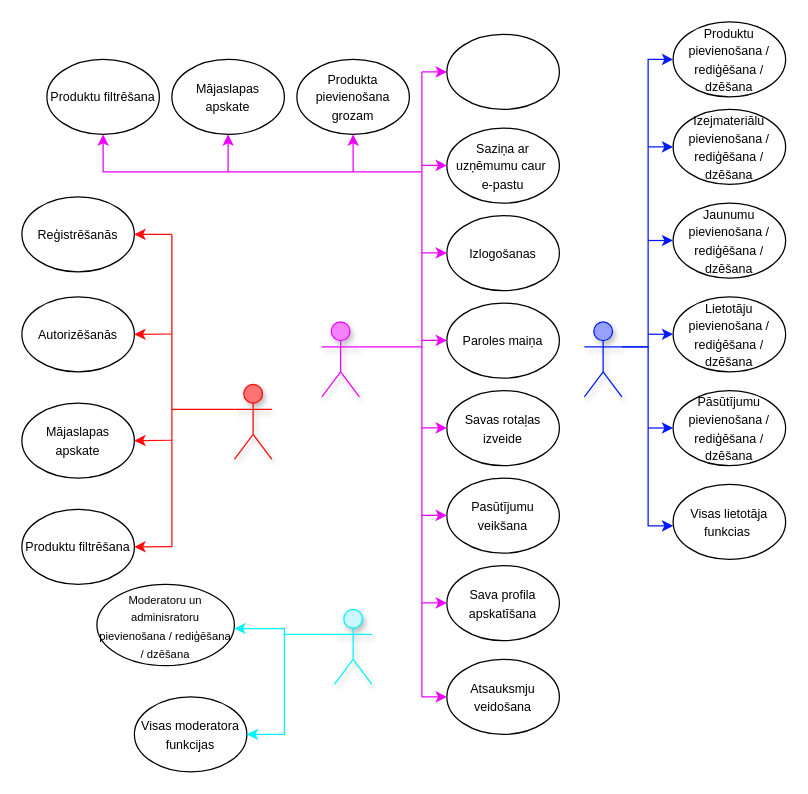
Some shapes in this 808 by 794 pixel diagram are drawn without their labels. Here are the shapes that lost their labels. From the top down, the centre of each, then its label:
pixel 502 71: Produkta dzēšana no groza
pixel 341 361: Lietotājs (Pircējs/admin/moder)
pixel 603 361: Moderators
pixel 253 423: Viesis (Neautorizēts lietotājs)
pixel 353 648: Administrators
